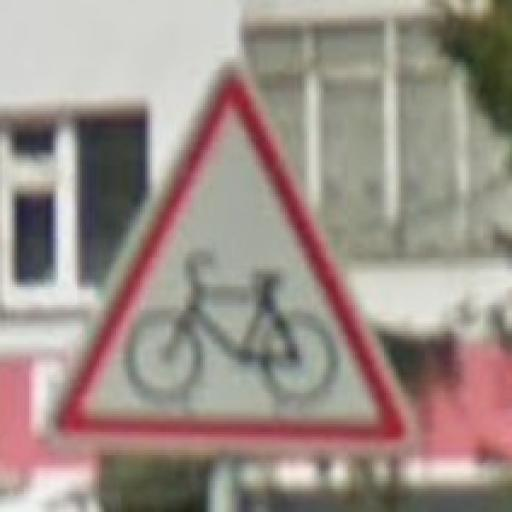traffic_sign: (47, 58, 416, 459)
